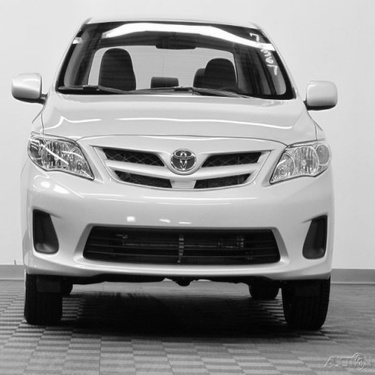car: (1, 12, 349, 341)
